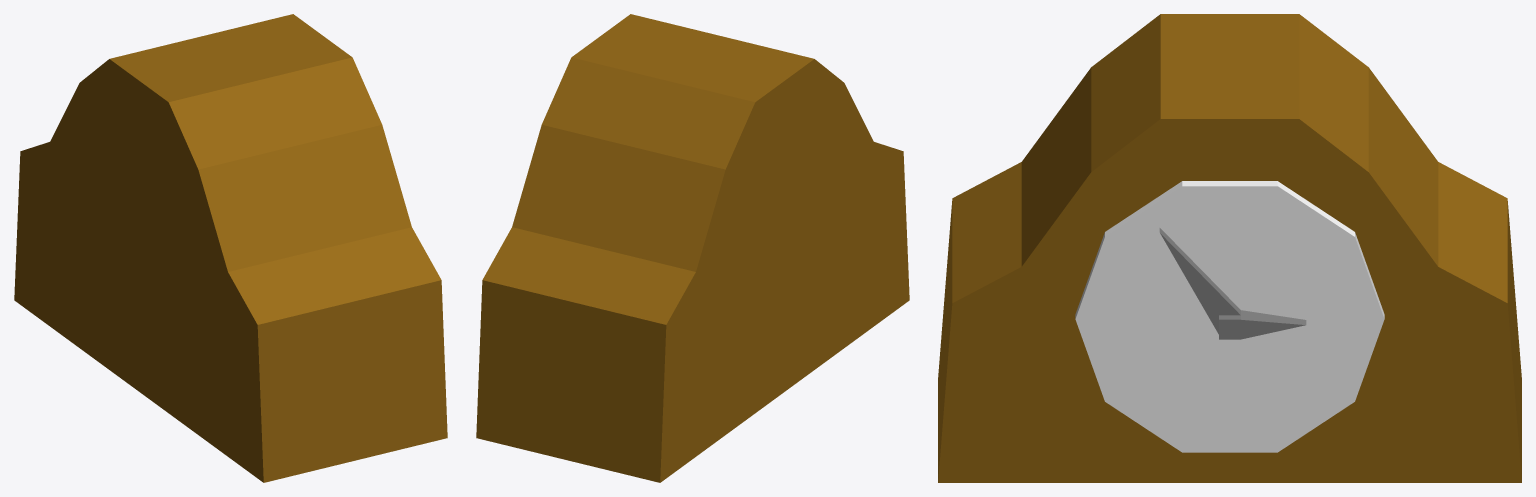
Rendered from tablewatchwood01.obj.
3 renders of one model, left to right at view 1: azimuth 30°, elevation 25°; view 2: azimuth 150°, elevation 25°; view 3: azimuth 270°, elevation 25°, orthographic. The views are drawn at different scales.
Parts seen in each view (by area): view 1: Cube; view 2: Cube; view 3: Cube.
Part boxes in pixels (x1,y1,x2,y2): Cube: [14, 14, 447, 482]; Cube: [476, 14, 909, 482]; Cube: [938, 14, 1521, 482].
Size of the model in its own units: 0.0766 by 0.1085 by 0.1577.
